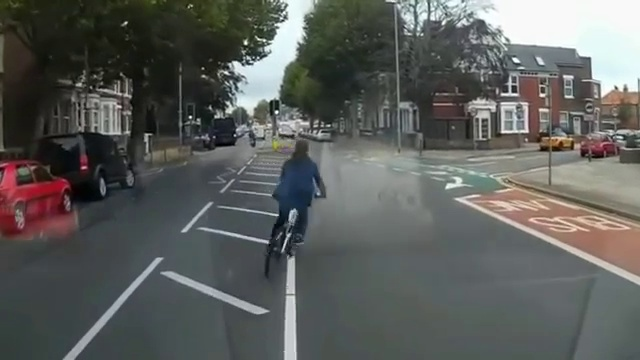cyclist_back: (268, 138, 322, 284)
